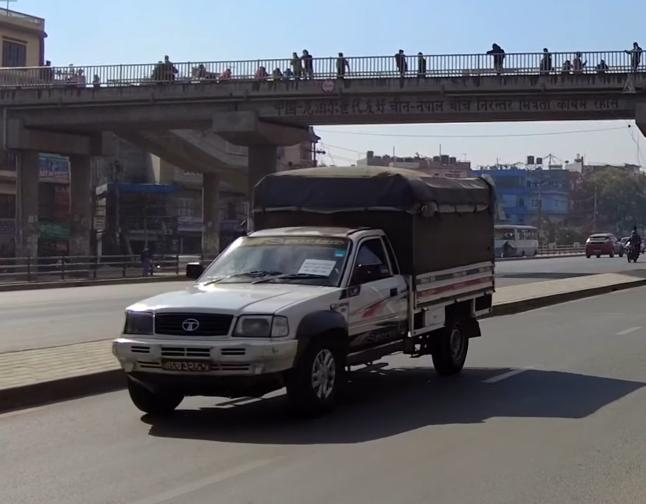bus: (487, 216, 546, 267)
car: (581, 228, 623, 261)
transport_vehicle: (119, 148, 501, 414)
